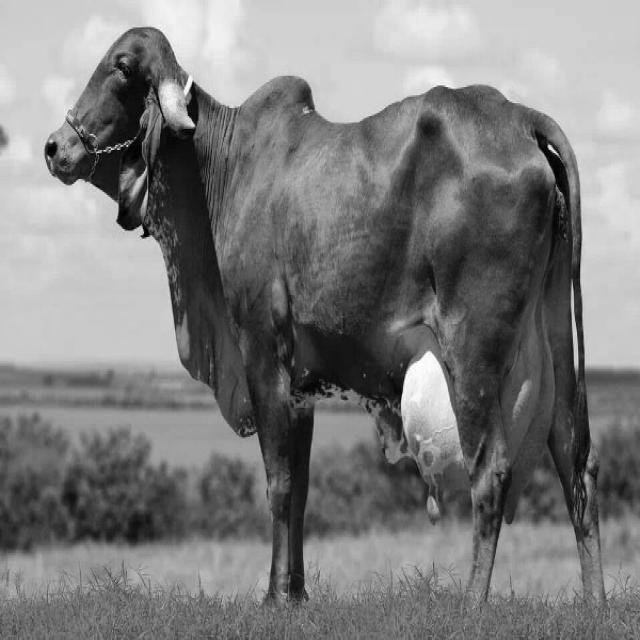Cow: (44, 24, 606, 608)
